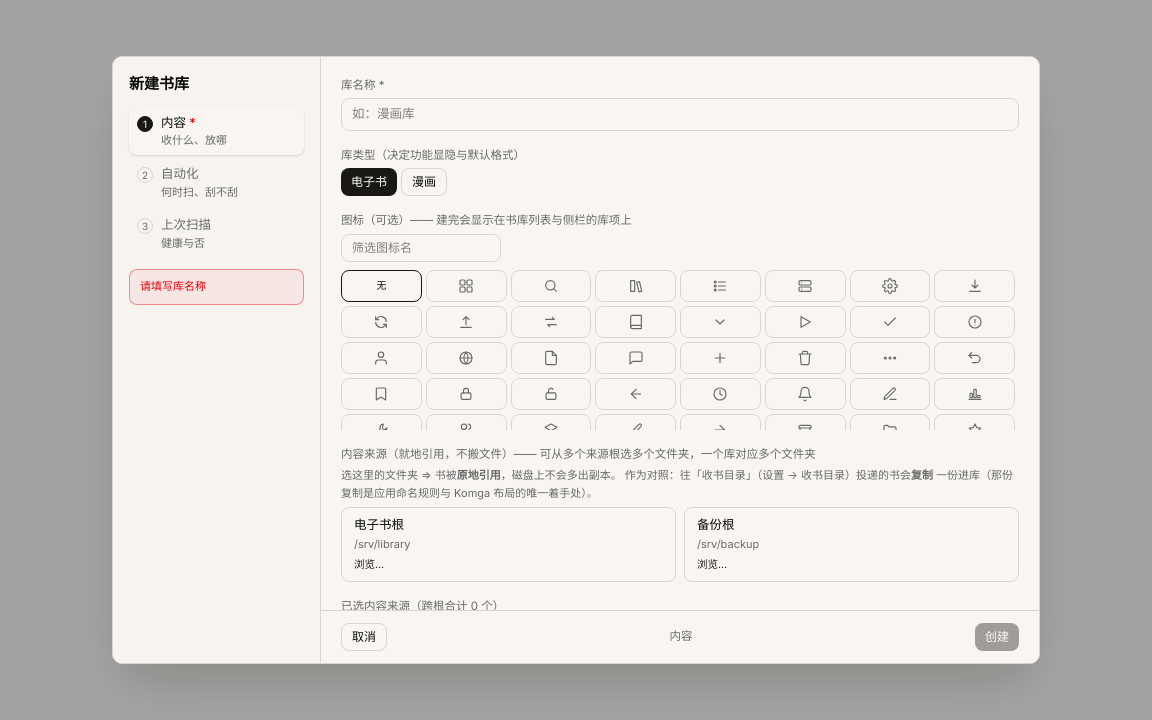
Test: 向导 · 三页签结构 › 切到「自动化」页签显示刮削出版开关；切到「上次扫描」显示新建说明
The image size is (1152, 720).
Click the button with test id "wizard-tab-automation" at coordinates (216, 182), box [129,159,304,206]
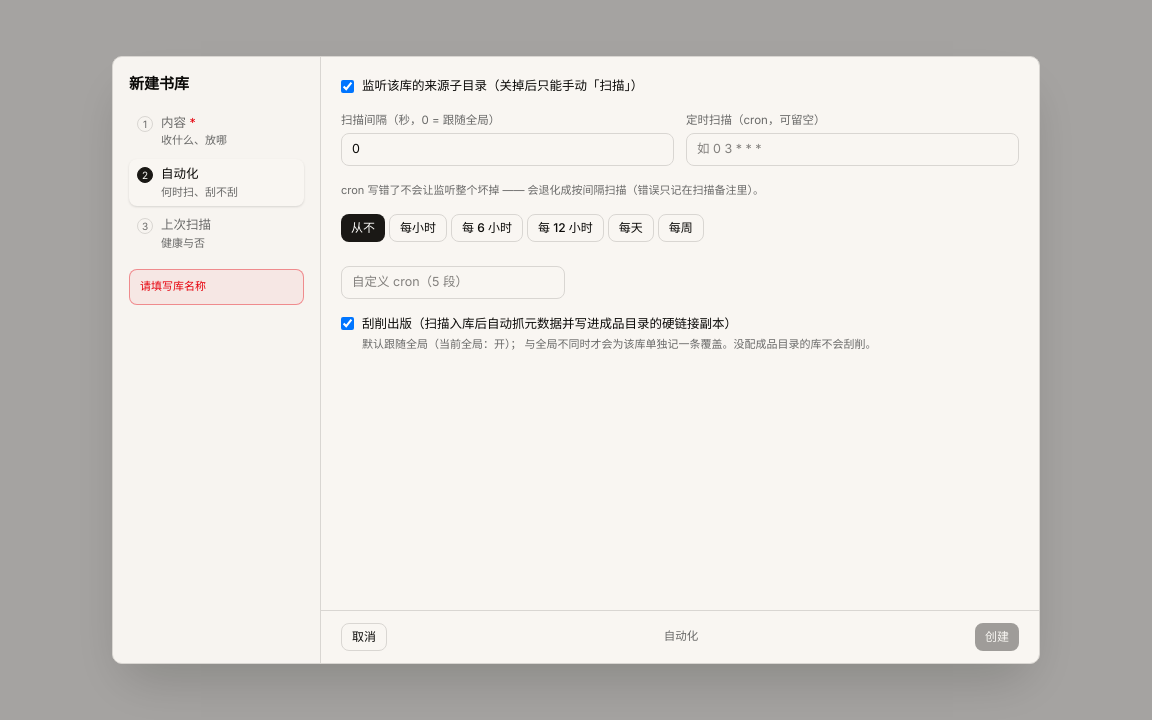
Now the checkbox with test id "wizard-scrape" is shown, box [341,317,354,330]
Click the button with test id "wizard-tab-last_scan" at coordinates (216, 234), box [129,210,304,257]
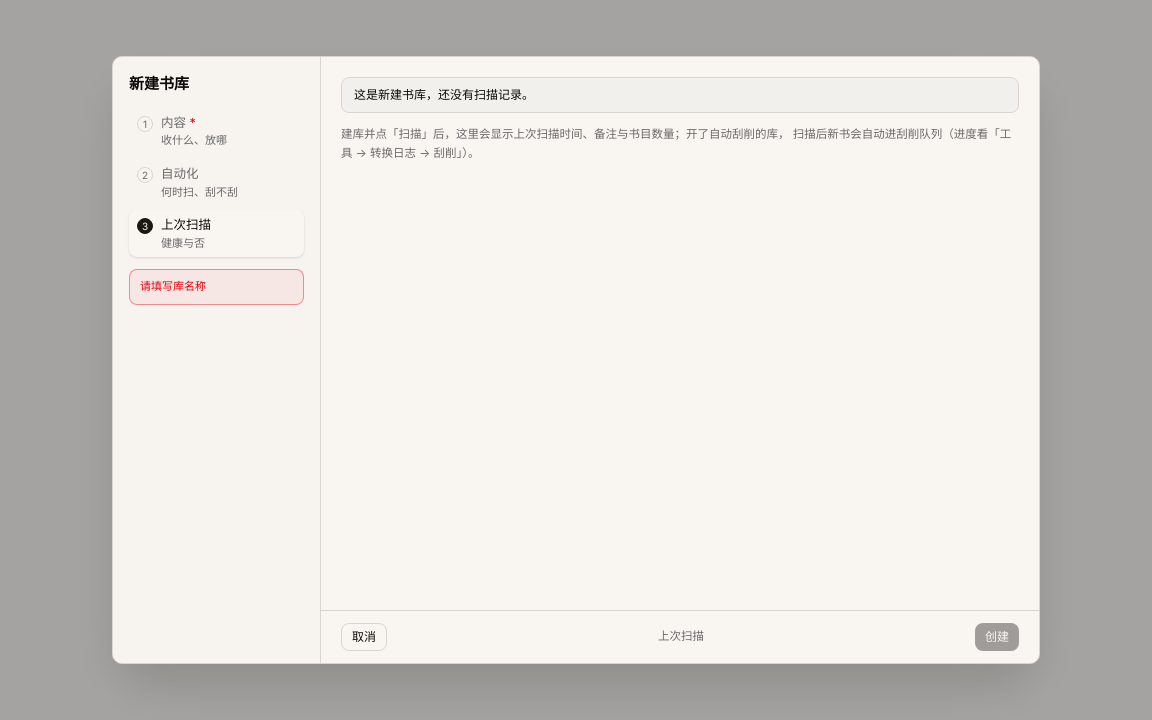
Now the text "这是新建书库，还没有扫描记录" is shown, box [354,87,534,102]
